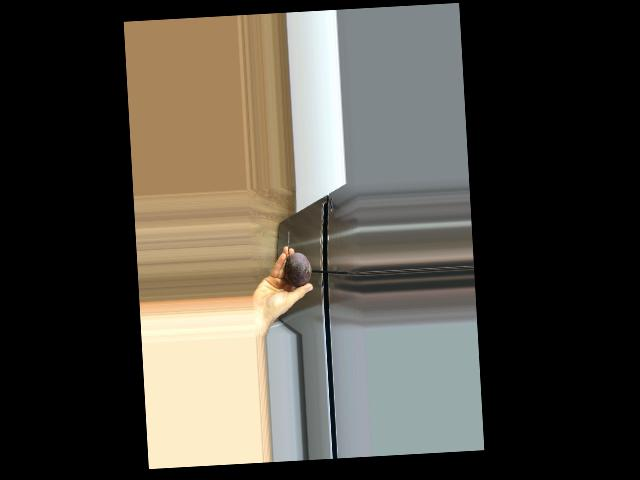beet: (282, 229, 312, 287)
